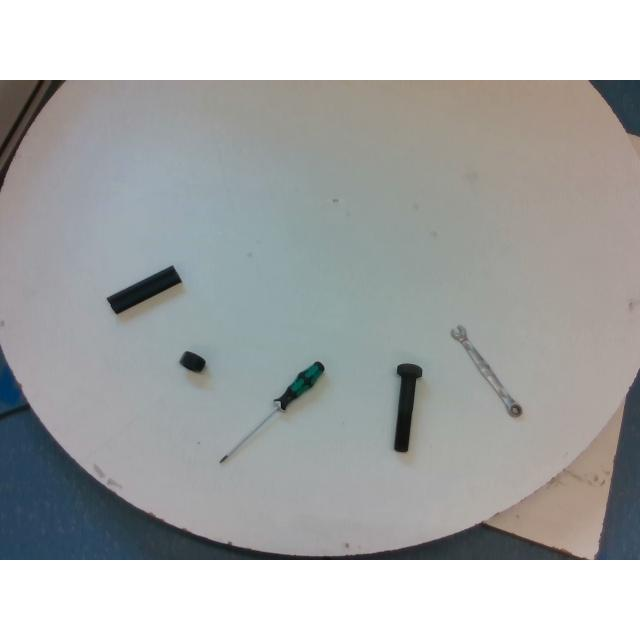F20_20_B: (107, 266, 181, 314)
M20: (179, 352, 205, 372)
M20_100: (394, 364, 422, 452)
Screwdriver: (218, 361, 324, 463)
Wrench: (450, 325, 522, 417)
